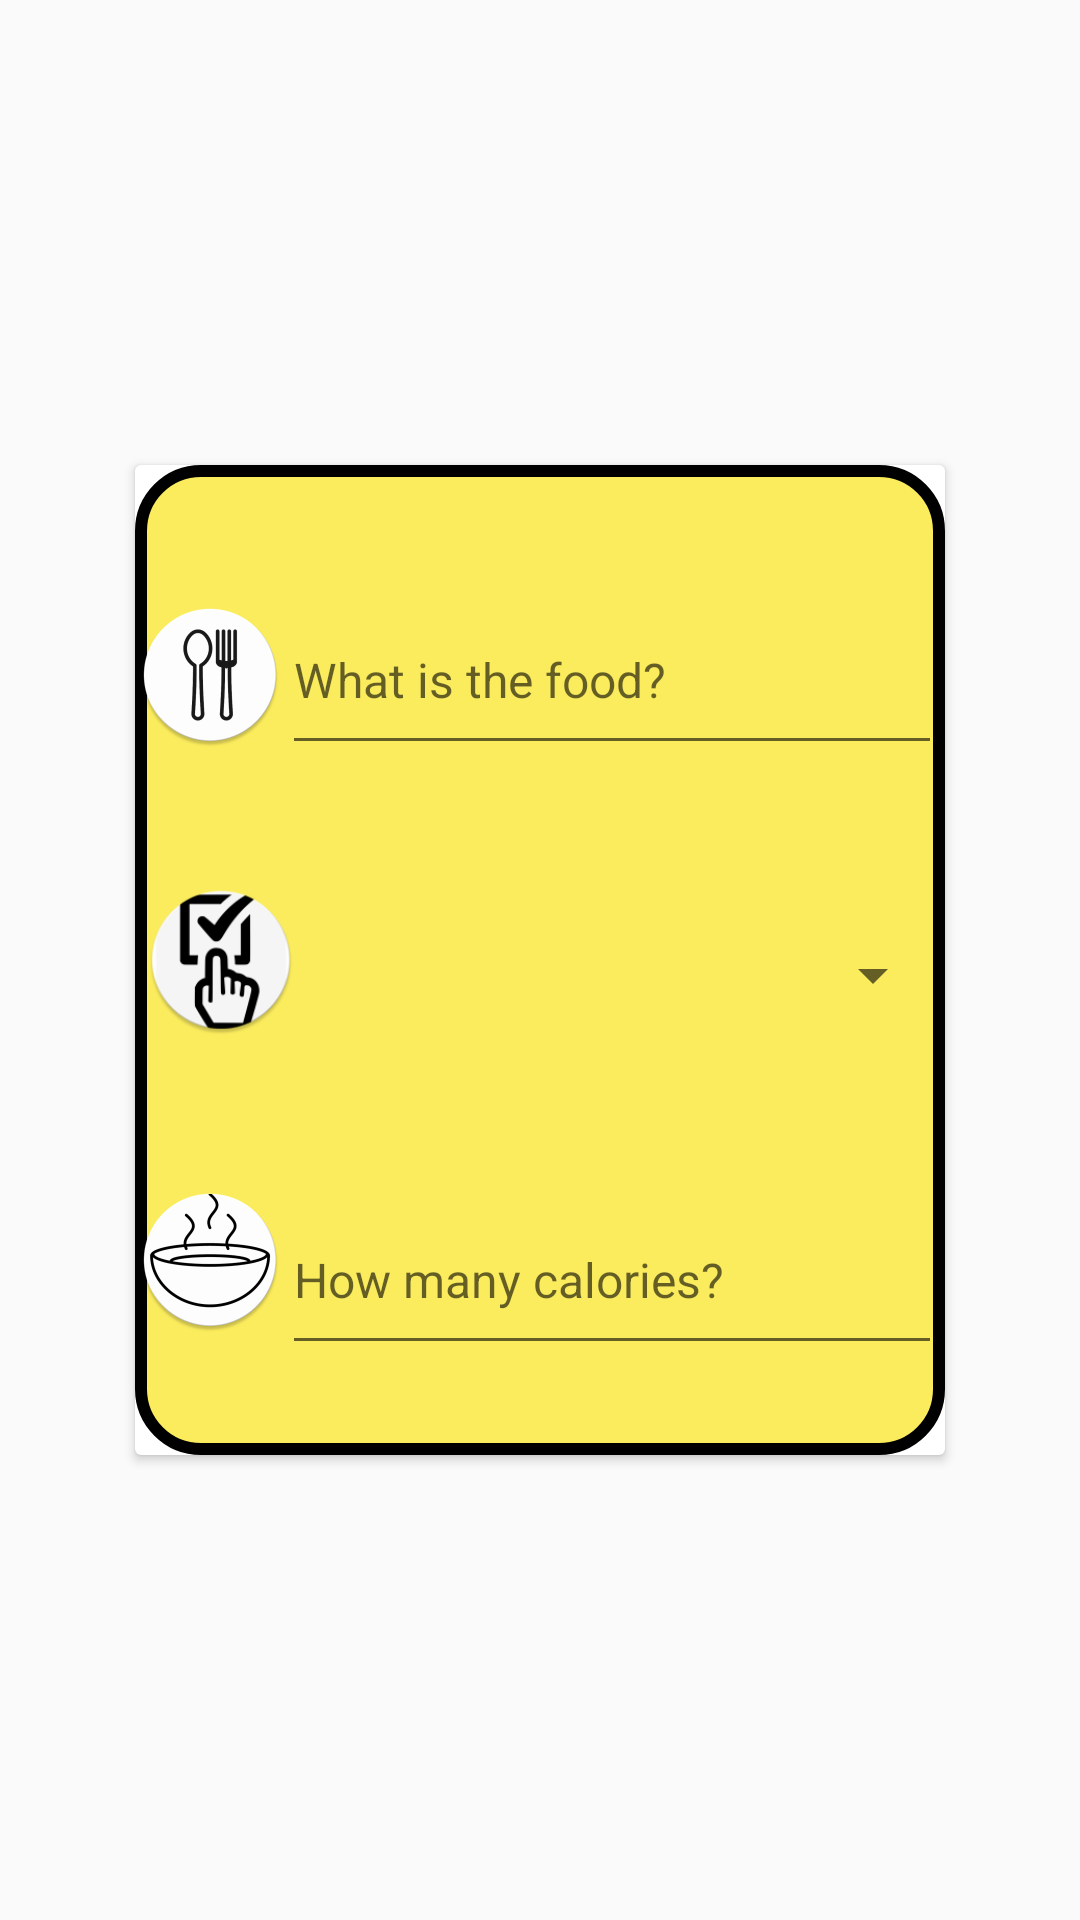

Where to tap for icons on this 1080w x 1920h app screen, as point (x, y):
bowl: point (207, 1260)
choose: point (221, 961)
sppon fork: point (207, 675)
